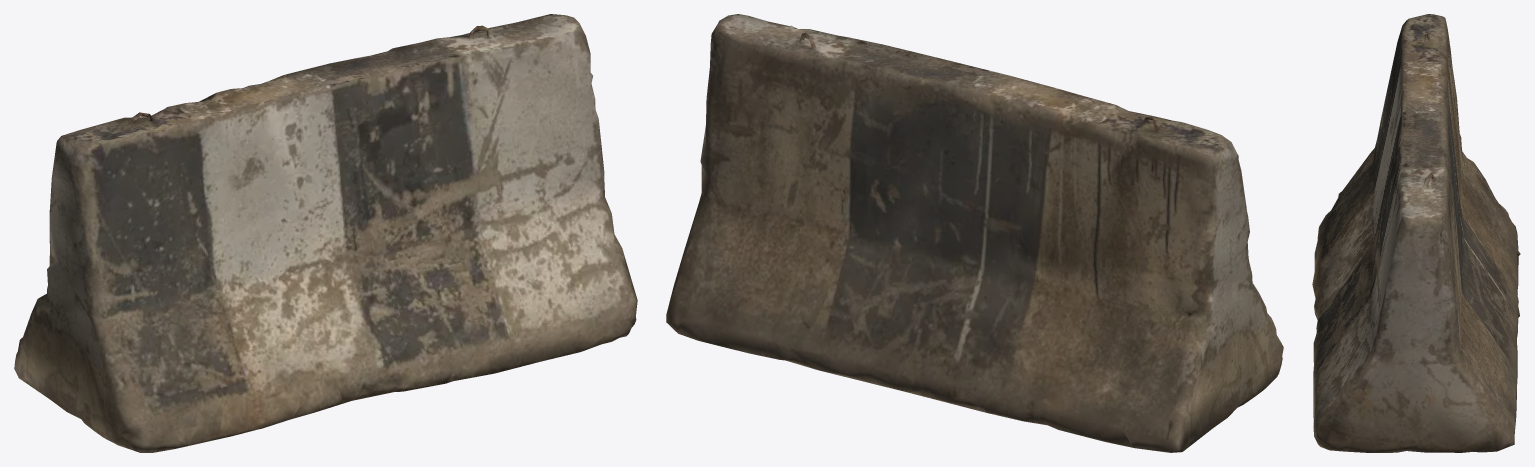
Rendered from barrier.glb.
3 renders of one model, left to right at view 1: azimuth 30°, elevation 25°; view 2: azimuth 150°, elevation 25°; view 3: azimuth 270°, elevation 25°, orthographic. The views are drawn at different scales.
Visible parts, largest first — view 1: concrete_road_barrier; view 2: concrete_road_barrier; view 3: concrete_road_barrier.
Part boxes in pixels (x1,y1,x2,y2): concrete_road_barrier: [14, 14, 637, 452]; concrete_road_barrier: [666, 14, 1283, 452]; concrete_road_barrier: [1312, 14, 1520, 452].
Bounding box in the file's own units: 1.56 × 0.8394 × 0.6456.
1 material, 1 textured.
